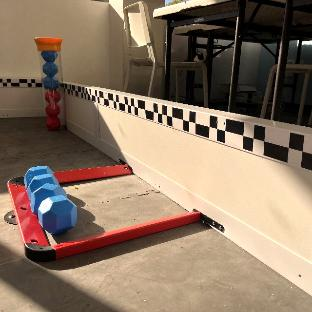V5_BLUE: (24, 167, 76, 234)
V5_RED: (46, 91, 59, 130)
